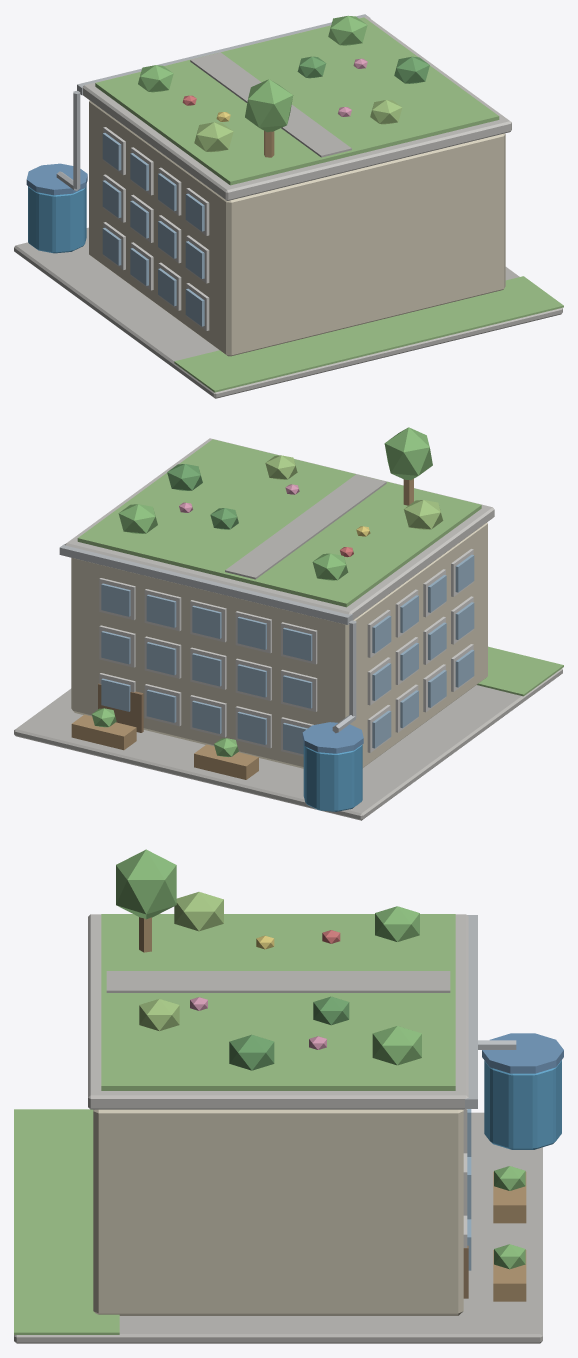
The model's file is parques__telhado_verde.glb.
3 views of the same model, one above another, from view 1: azimuth 30°, elevation 25°; view 2: azimuth 150°, elevation 25°; view 3: azimuth 270°, elevation 25° (orthographic). The views are drawn at different scales.
Visible parts, largest first — view 1: parques__telhado_verde; view 2: parques__telhado_verde; view 3: parques__telhado_verde.
Boxes of the visible parts, x1,y1,x2,y2 form: parques__telhado_verde: (14, 14, 563, 398); parques__telhado_verde: (14, 427, 563, 820); parques__telhado_verde: (14, 849, 563, 1343).
Bounding box in the file's own units: 4 × 2.83 × 4.16.
